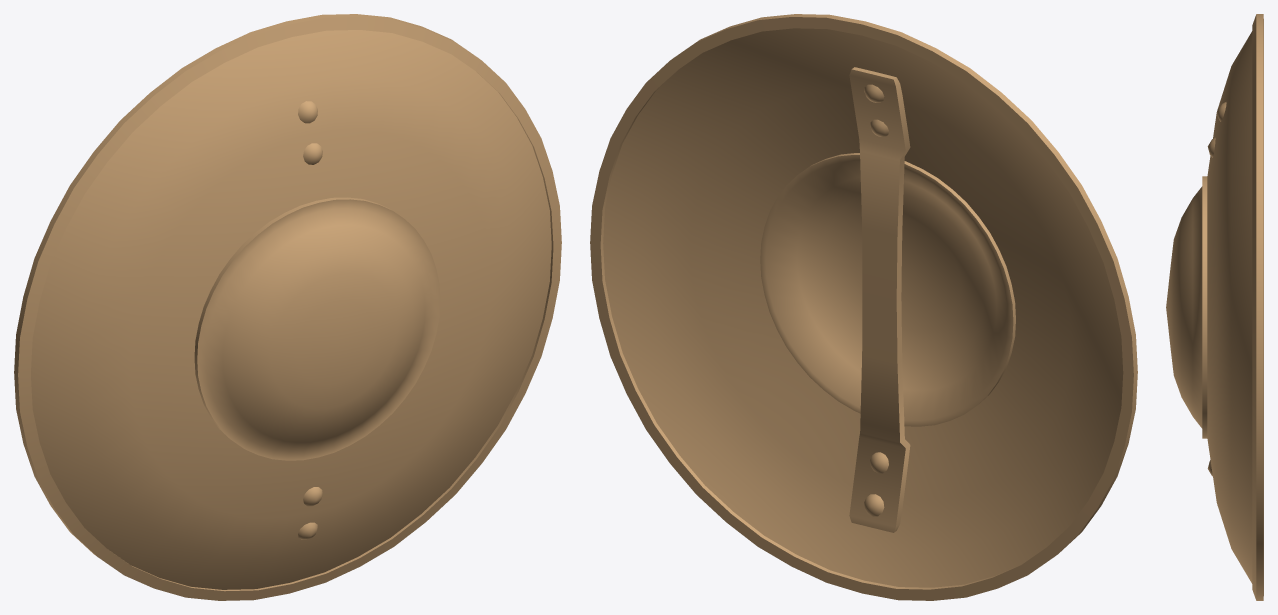
File: sheld_mirror_full.fbx
3 views of the same model, side by side, from view 1: azimuth 30°, elevation 25°; view 2: azimuth 150°, elevation 25°; view 3: azimuth 270°, elevation 25° (orthographic). The views are drawn at different scales.
Visible parts, largest first — view 1: sheld-mirror; view 2: sheld-mirror; view 3: sheld-mirror.
Boxes of the visible parts, x1=… form: sheld-mirror: x1=14, y1=14, x2=561, y2=600; sheld-mirror: x1=590, y1=14, x2=1137, y2=600; sheld-mirror: x1=1166, y1=14, x2=1263, y2=600.
Size of the model in its own units: 1169 by 1169 by 195.
